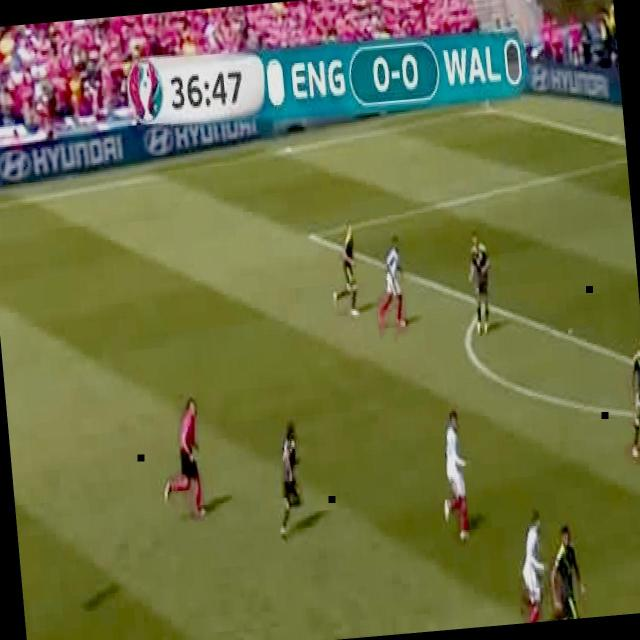player-white: (155, 397, 207, 520), (436, 409, 476, 541), (543, 524, 589, 621), (514, 509, 552, 623), (270, 422, 306, 537), (371, 236, 406, 330), (326, 222, 360, 318), (466, 230, 496, 336), (621, 334, 640, 462)
